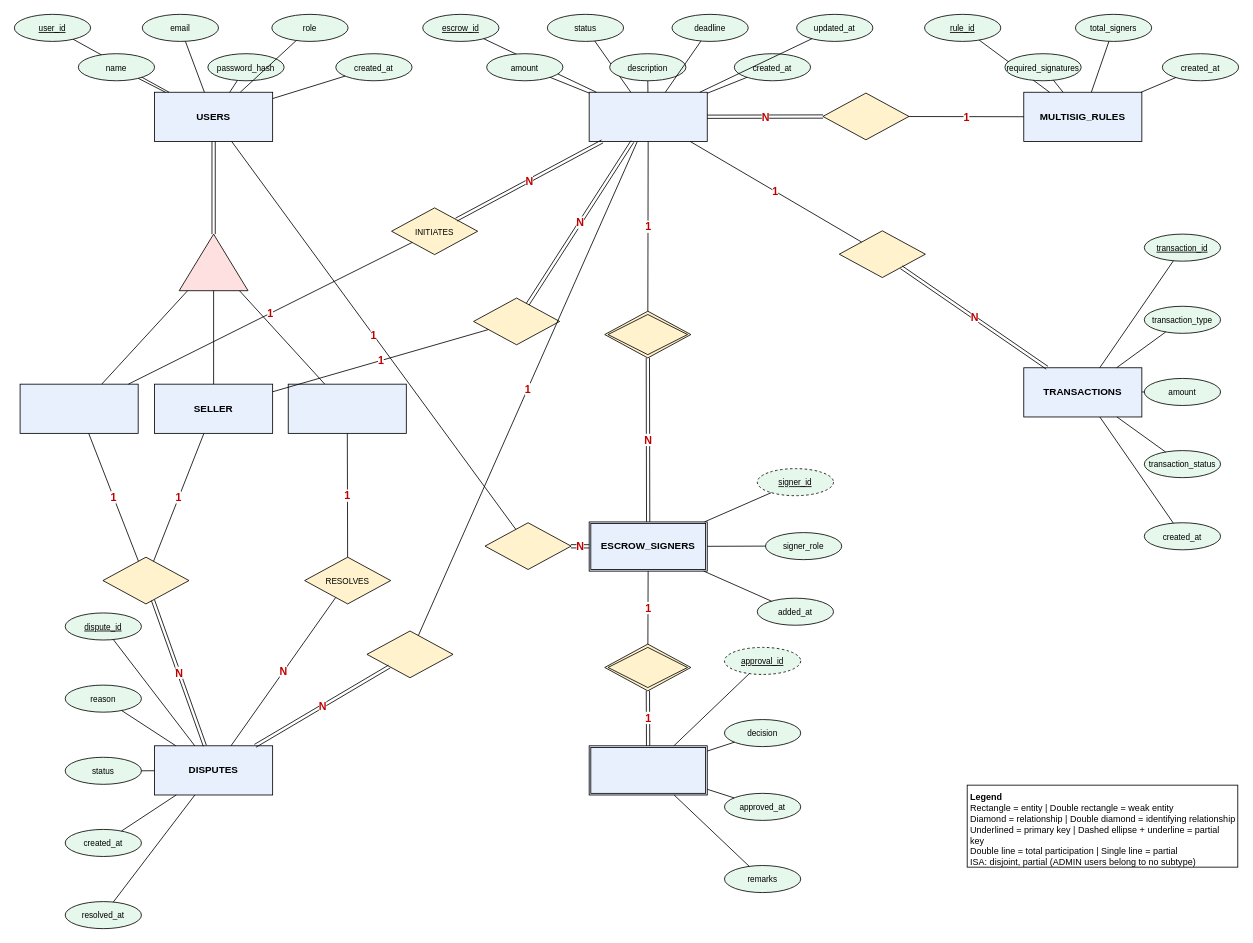
The diagram is 1253 pixels wide and 943 high, and some of its shapes have lost their labels. The box of each missing label's shape, as (x1, y1, x2, y2) in pixels:
APPROVALS: (588, 745, 707, 795)
ARBITRATOR: (287, 383, 406, 433)
BUYER: (19, 383, 138, 433)
ESCROWS: (588, 91, 707, 141)
GENERATES: (838, 230, 925, 278)
GIVES: (604, 643, 691, 691)
HAS DISPUTE: (366, 630, 453, 678)
HAS RULE: (822, 92, 909, 140)
HAS SIGNERS: (604, 310, 691, 358)
ISA: (178, 233, 248, 291)
RAISES: (102, 556, 189, 604)
RECEIVES: (473, 297, 560, 345)
SIGNS: (484, 522, 571, 569)
